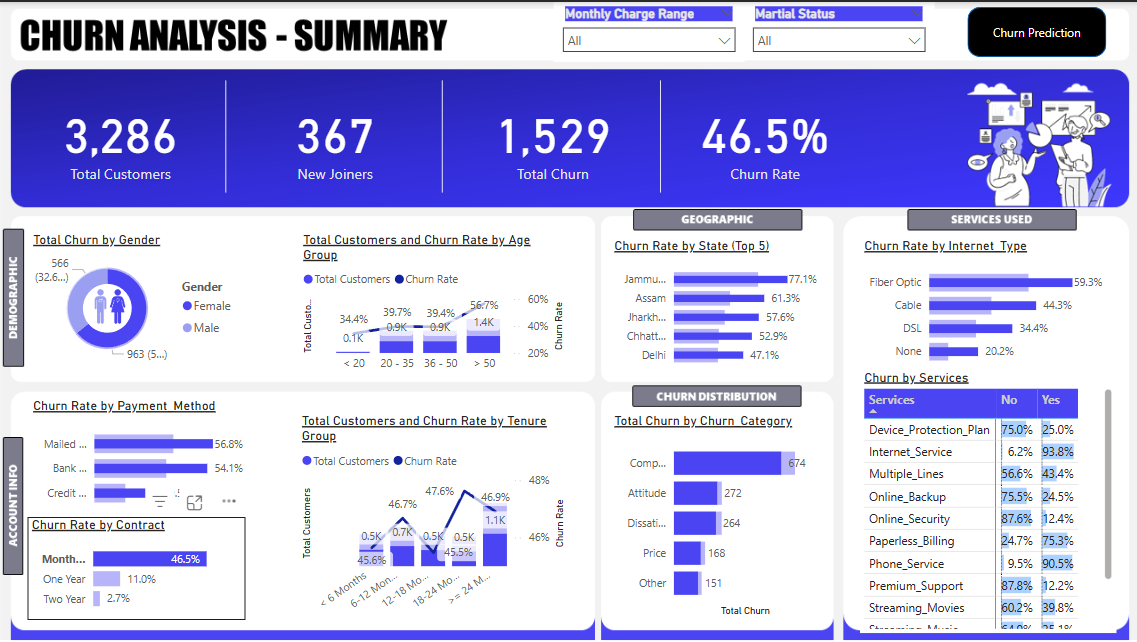

The page's visual inventory and layout, read from the dashboard file:
{"tool":"powerbi","page":{"name":"Summary","canvas":[1280,720],"ordinal":0},"visuals":[{"type":"image","box":[94.7,311.5,59,59],"z":0},{"type":"card","fields":{"Values":["tbl_measures.Total Customers"]},"box":[17.8,76.8,234.6,153.7],"z":1000},{"type":"card","fields":{"Values":["tbl_measures.Total Churn"]},"box":[502.2,76.8,237.4,153.7],"z":2000},{"type":"card","fields":{"Values":["tbl_measures.New Joiners"]},"box":[263.5,76.8,225,153.7],"z":3000},{"type":"card","fields":{"Values":["tbl_measures.Churn Rate"]},"box":[752,76.8,214.1,153.7],"z":4000},{"type":"donutChart","fields":{"Category":["prod_Churn.Gender"],"Y":["tbl_measures.Total Churn"]},"box":[32.9,258,242.9,155.1],"z":5000},{"type":"lineStackedColumnComboChart","fields":{"Category":["mapping_AgeGrp.Age Group "],"Y":["tbl_measures.Total Customers"],"Y2":["tbl_measures.Churn Rate"]},"box":[336.2,258,303.3,166],"z":6000},{"type":"clusteredBarChart","fields":{"Category":["prod_Churn.Payment_Method"],"Y":["tbl_measures.Churn Rate"]},"box":[32.9,444.6,245.6,134.5],"z":7000},{"type":"clusteredBarChart","fields":{"Category":["prod_Churn.Contract"],"Y":["tbl_measures.Churn Rate"]},"box":[30.2,579.1,245.6,115.3],"z":8000},{"type":"lineStackedColumnComboChart","fields":{"Category":["mapping_TenureGrp.Tenure Group "],"Y":["tbl_measures.Total Customers"],"Y2":["tbl_measures.Churn Rate"]},"box":[333.4,462.4,306,231.9],"z":9000},{"type":"clusteredBarChart","title":"Churn Rate by State (Top 5) ","fields":{"Category":["prod_Churn.State"],"Y":["tbl_measures.Churn Rate"]},"box":[684.7,264.8,237.4,153.7],"z":10000},{"type":"clusteredBarChart","fields":{"Category":["prod_Churn.Churn_Category"],"Y":["tbl_measures.Total Churn"]},"box":[684.7,462.4,237.4,233.3],"z":11000},{"type":"clusteredBarChart","fields":{"Category":["prod_Churn.Internet_Type"],"Y":["tbl_measures.Churn Rate"]},"box":[966,264.8,277.2,153.7],"z":12000},{"type":"pivotTable","title":"Churn by Services","fields":{"Rows":["prod_Services.Services"],"Columns":["prod_Services.Status"],"Values":["Sum(prod_Services.Churn_Status)"]},"box":[966,413,288.2,296.4],"z":13000},{"type":"slicer","fields":{"Values":["prod_Churn.Monthly Charge Range tom"]},"box":[621.6,0,214.1,67.2],"z":14000},{"type":"slicer","fields":{"Values":["prod_Churn.Married"]},"box":[835.7,0,214.1,57.6],"z":15000},{"type":"shape","box":[1086.6,5.6,155.8,56.2],"z":15001}]}

Visuals, with their boxes in screenshot pixels (x1, y1, x2, y2), scaled from the page's 1280x720 canvas onto the 1137x642 screenshot:
image: {"x1": 84, "y1": 278, "x2": 137, "y2": 330}
card - tbl_measures.Total Customers: {"x1": 16, "y1": 68, "x2": 224, "y2": 206}
card - tbl_measures.Total Churn: {"x1": 446, "y1": 68, "x2": 657, "y2": 206}
card - tbl_measures.New Joiners: {"x1": 234, "y1": 68, "x2": 434, "y2": 206}
card - tbl_measures.Churn Rate: {"x1": 668, "y1": 68, "x2": 858, "y2": 206}
donutChart - prod_Churn.Gender x tbl_measures.Total Churn: {"x1": 29, "y1": 230, "x2": 245, "y2": 368}
lineStackedColumnComboChart - mapping_AgeGrp.Age Group  x tbl_measures.Total Customers: {"x1": 299, "y1": 230, "x2": 568, "y2": 378}
clusteredBarChart - prod_Churn.Payment_Method x tbl_measures.Churn Rate: {"x1": 29, "y1": 396, "x2": 247, "y2": 516}
clusteredBarChart - prod_Churn.Contract x tbl_measures.Churn Rate: {"x1": 27, "y1": 516, "x2": 245, "y2": 619}
lineStackedColumnComboChart - mapping_TenureGrp.Tenure Group  x tbl_measures.Total Customers: {"x1": 296, "y1": 412, "x2": 568, "y2": 619}
"Churn Rate by State (Top 5) " clusteredBarChart: {"x1": 608, "y1": 236, "x2": 819, "y2": 373}
clusteredBarChart - prod_Churn.Churn_Category x tbl_measures.Total Churn: {"x1": 608, "y1": 412, "x2": 819, "y2": 620}
clusteredBarChart - prod_Churn.Internet_Type x tbl_measures.Churn Rate: {"x1": 858, "y1": 236, "x2": 1104, "y2": 373}
"Churn by Services" pivotTable: {"x1": 858, "y1": 368, "x2": 1114, "y2": 633}
slicer - prod_Churn.Monthly Charge Range tom: {"x1": 552, "y1": 0, "x2": 742, "y2": 60}
slicer - prod_Churn.Married: {"x1": 742, "y1": 0, "x2": 933, "y2": 51}
shape: {"x1": 965, "y1": 5, "x2": 1104, "y2": 55}
